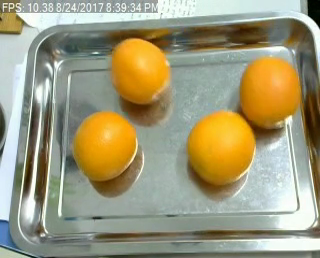Orange: (184, 109, 253, 184), (71, 110, 137, 179), (238, 56, 302, 127), (110, 37, 170, 104)
